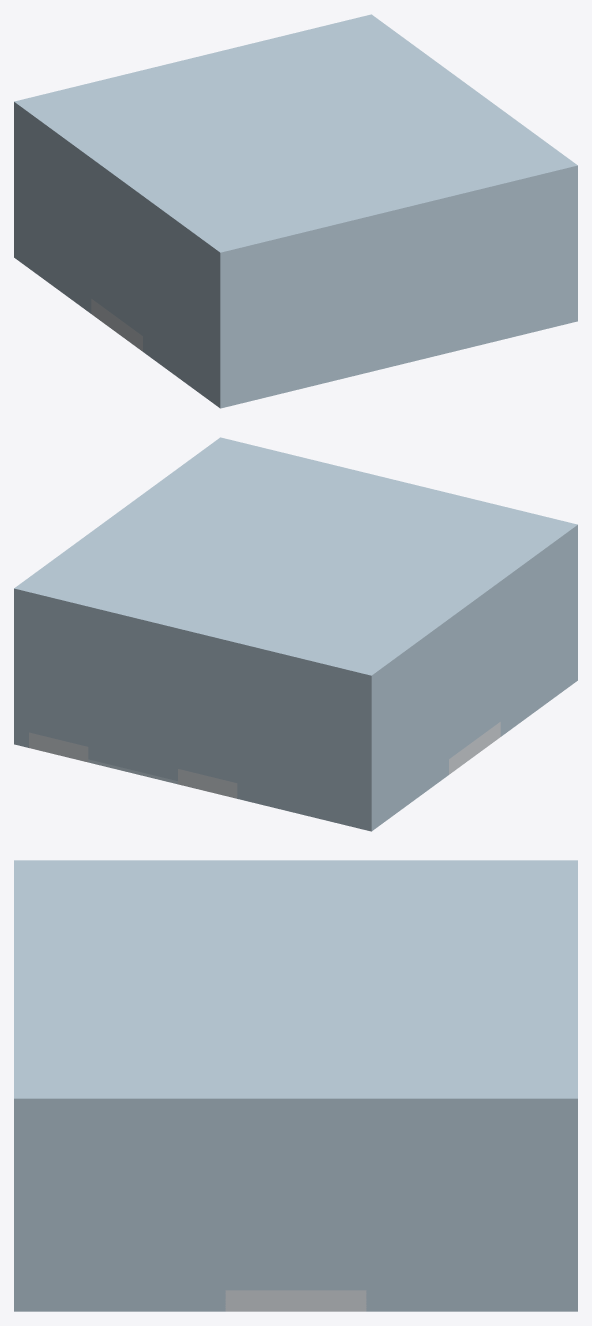
The model's file is frozen-sink.glb.
3 renders of one model, top to bottom at view 1: azimuth 30°, elevation 25°; view 2: azimuth 150°, elevation 25°; view 3: azimuth 270°, elevation 25°, orthographic. The views are drawn at different scales.
Parts seen in each view (by area): view 1: ice-rock_15, ice-rock_8, ice-rock_4, ice-rock_3, plug_ice_west, ice-rock_6, ice-rock_7, ice-rock_5, ice-rock_10, ice-rock_1, snow_6; view 2: ice-rock_15, plug_frozen_north, ice-rock_1, ice-rock_4, ice-rock_3, plug_ice_west, ice-rock_9, ice-rock_2, ice-rock_10, plug_frozen_north.001, snow_2, snow_1 (+1 smaller); view 3: ice-rock_15, ice-rock_2, ice-rock_5, plug_ice_east, ice-rock_11, snow_7.
Part boxes in pixels (left/top/right/bottom): ice-rock_15: left=14, top=14, right=577, bottom=268; ice-rock_8: left=265, top=192, right=533, bottom=397; ice-rock_4: left=143, top=212, right=235, bottom=408; ice-rock_3: left=22, top=124, right=91, bottom=313; plug_ice_west: left=91, top=205, right=142, bottom=335; ice-rock_6: left=235, top=257, right=264, bottom=404; ice-rock_7: left=533, top=185, right=562, bottom=332; ice-rock_5: left=563, top=181, right=577, bottom=324; ice-rock_10: left=91, top=174, right=142, bottom=242; ice-rock_1: left=14, top=117, right=22, bottom=263; snow_6: left=91, top=299, right=142, bottom=351; ice-rock_15: left=14, top=437, right=577, bottom=691; plug_frozen_north: left=29, top=623, right=237, bottom=782; ice-rock_1: left=237, top=658, right=379, bottom=831; ice-rock_4: left=500, top=540, right=577, bottom=736; ice-rock_3: left=380, top=635, right=448, bottom=824; plug_ice_west: left=449, top=628, right=500, bottom=758; ice-rock_9: left=29, top=608, right=237, bottom=673; ice-rock_2: left=14, top=604, right=28, bottom=747; ice-rock_10: left=449, top=597, right=500, bottom=665; plug_frozen_north.001: left=88, top=747, right=177, bottom=780; snow_2: left=29, top=732, right=88, bottom=762; snow_1: left=178, top=769, right=237, bottom=798; ice-rock_15: left=14, top=860, right=577, bottom=1119; ice-rock_2: left=366, top=1120, right=577, bottom=1311; ice-rock_5: left=14, top=1120, right=225, bottom=1311; plug_ice_east: left=225, top=1162, right=366, bottom=1290; ice-rock_11: left=225, top=1120, right=366, bottom=1162; snow_7: left=225, top=1290, right=366, bottom=1311.
Size of the model in its own units: 12 by 5 by 12.
